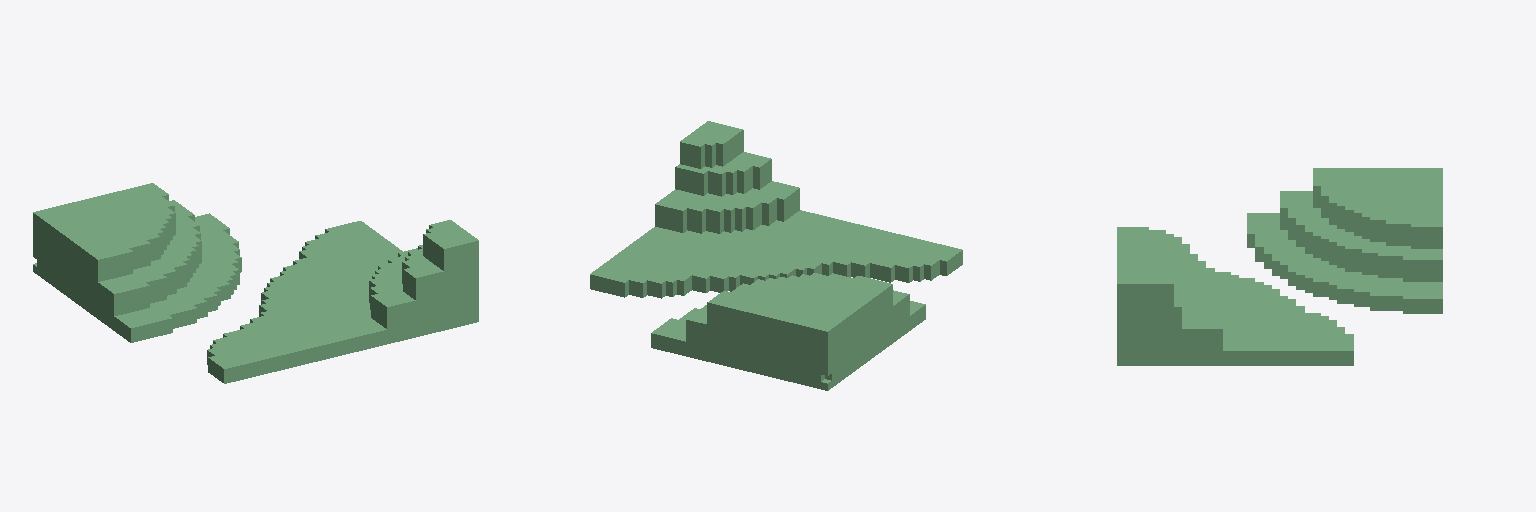
3 views of the same model, side by side, from view 1: azimuth 30°, elevation 25°; view 2: azimuth 150°, elevation 25°; view 3: azimuth 270°, elevation 25° (orthographic).
Visible parts, largest first — view 1: object 1; view 2: object 1; view 3: object 1.
Boxes of the visible parts, <box> form: object 1: <box>33,183,478,383</box>; object 1: <box>590,121,962,390</box>; object 1: <box>1117,168,1442,365</box>.
Size of the model in its own units: 4 by 1.1 by 4.
1 materials, 1 textured.